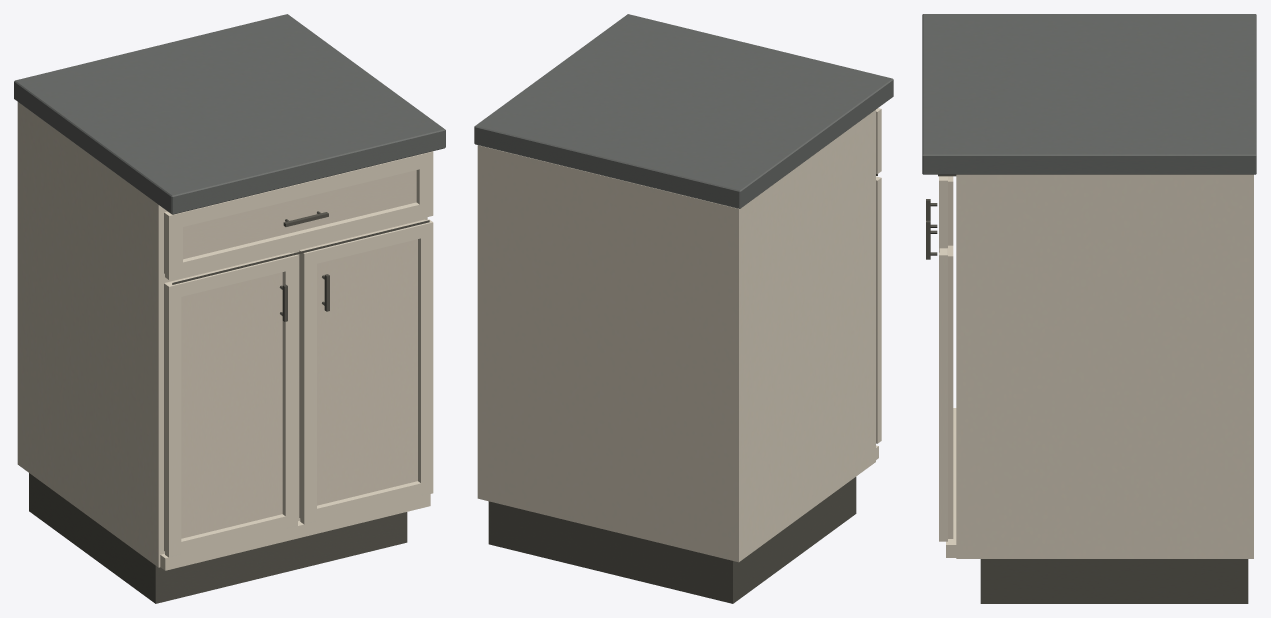
File: cabinet_base.glb
3 renders of one model, left to right at view 1: azimuth 30°, elevation 25°; view 2: azimuth 150°, elevation 25°; view 3: azimuth 270°, elevation 25°, orthographic. The views are drawn at different scales.
Parts seen in each view (by area): view 1: home_cabinet_base; view 2: home_cabinet_base; view 3: home_cabinet_base.
Boxes of the visible parts, x1,y1,x2,y2 form: home_cabinet_base: (14, 14, 445, 603); home_cabinet_base: (474, 14, 893, 603); home_cabinet_base: (922, 14, 1256, 603).
Size of the model in its own units: 0.6 by 0.9 by 0.6.
1 material, 1 textured.
